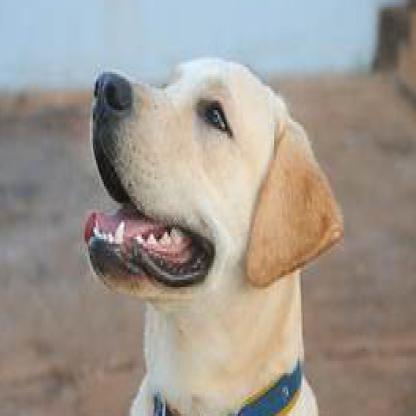dog: (80, 58, 345, 414)
